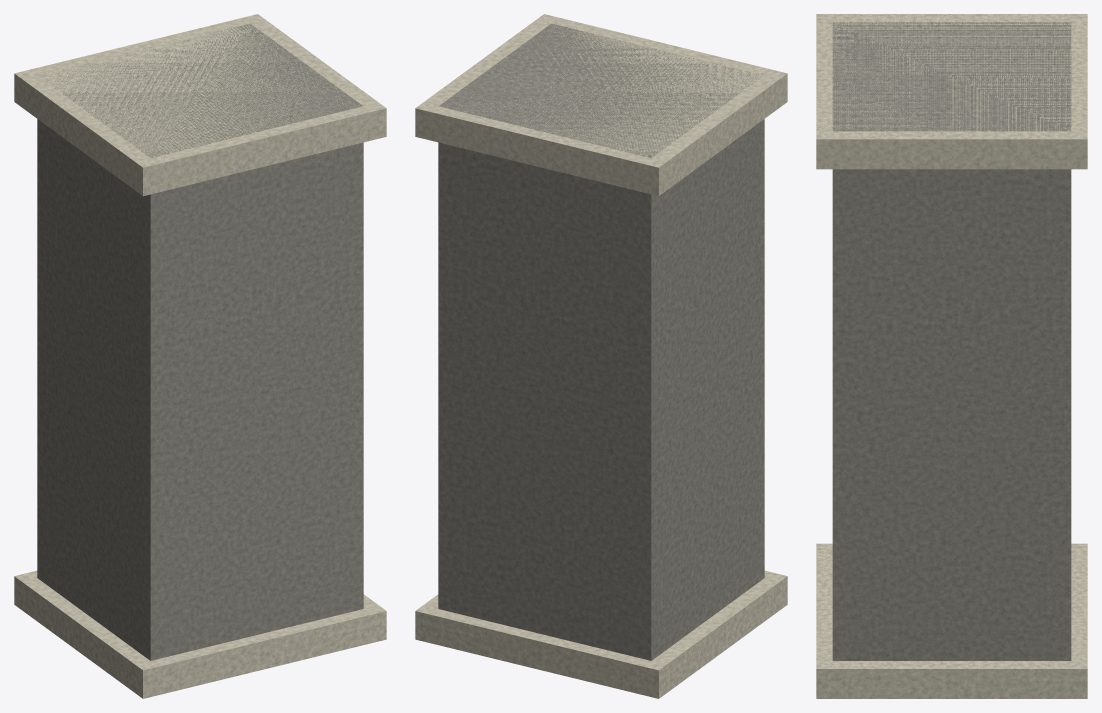
Rendered from TUNN31RW_lod2.glb.
The picture shows the model from 3 angles, left to right: view 1: azimuth 30°, elevation 25°; view 2: azimuth 150°, elevation 25°; view 3: azimuth 270°, elevation 25°; orthographic projection. The views are drawn at different scales.
Visible parts, largest first — view 1: TUNN31RW_LOD2; view 2: TUNN31RW_LOD2; view 3: TUNN31RW_LOD2.
Part boxes in pixels (x1,y1,x2,y2): TUNN31RW_LOD2: (14,14,386,698); TUNN31RW_LOD2: (415,14,787,698); TUNN31RW_LOD2: (816,14,1087,698).
Bounding box in the file's own units: 1.43 × 3 × 1.31.
Materials: 2 (2 with a texture image).
